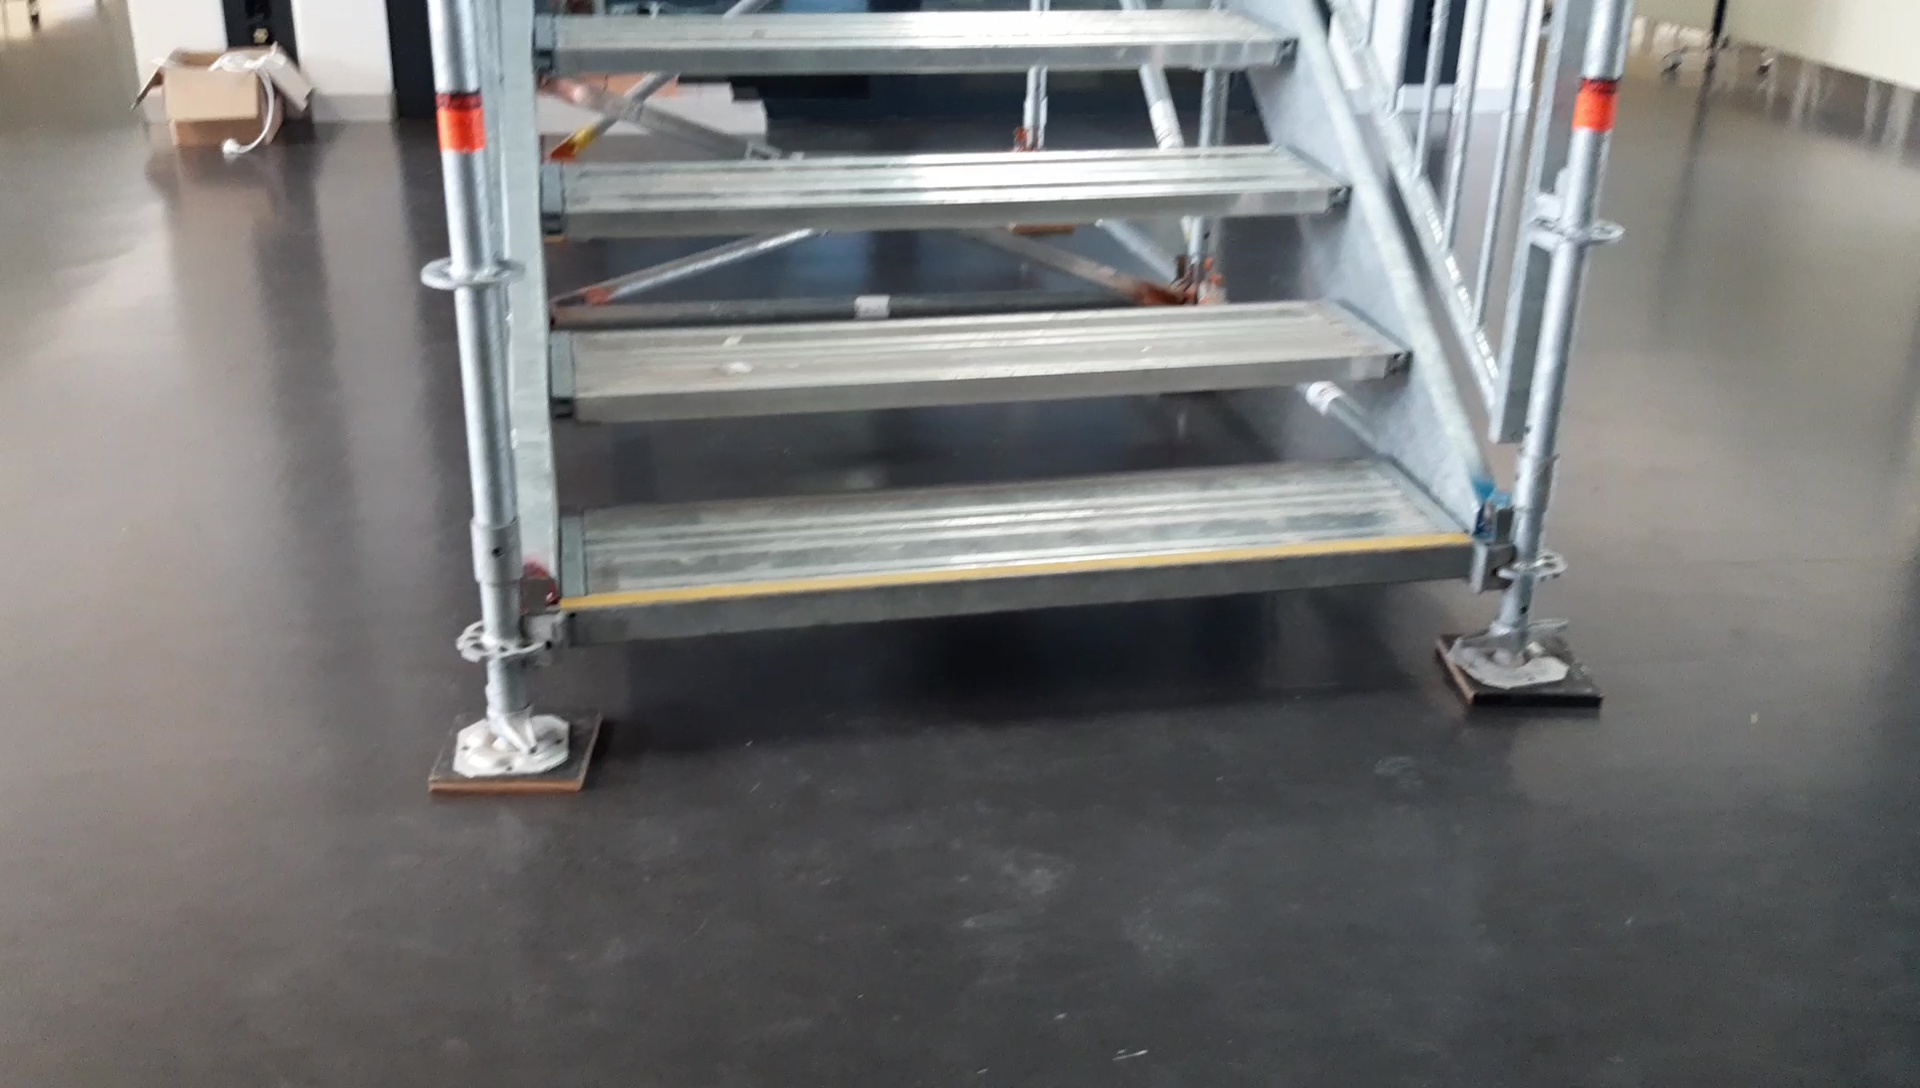edge: (570, 539, 1473, 636), (547, 351, 1410, 415), (541, 182, 1352, 233), (530, 40, 1298, 69)
stairs: (425, 0, 1601, 795)
